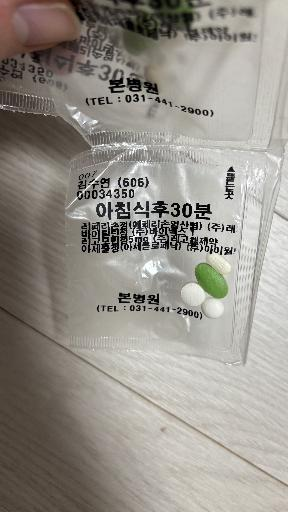Acecool: (181, 283, 205, 306)
BI-Tilin: (195, 263, 228, 299)
Lebamotin: (206, 253, 231, 275)
Leperisone: (202, 297, 224, 319)
vinyl: (65, 142, 269, 362)
